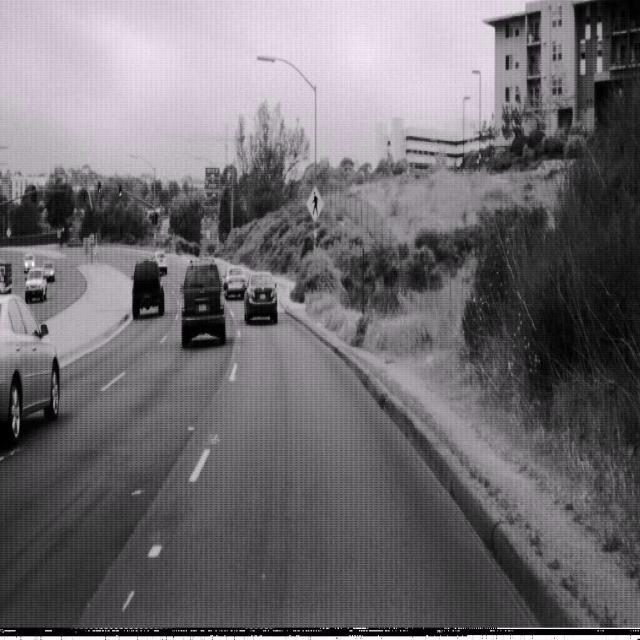pedestrianCrossing: (306, 183, 326, 223)
